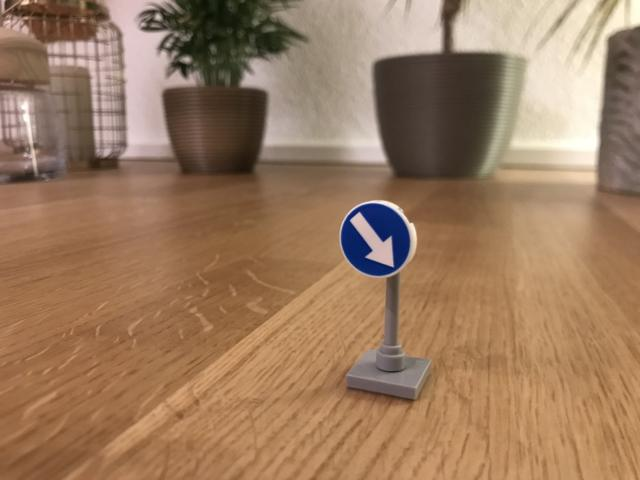rechts halten: (339, 200, 417, 279)
